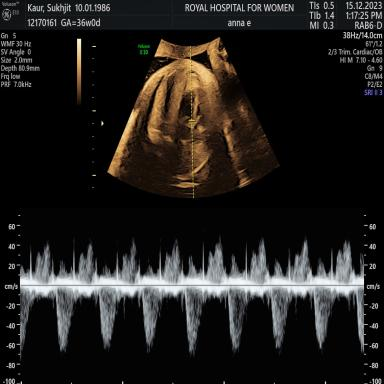Ultrasound-Waves: (24, 214, 361, 384)
